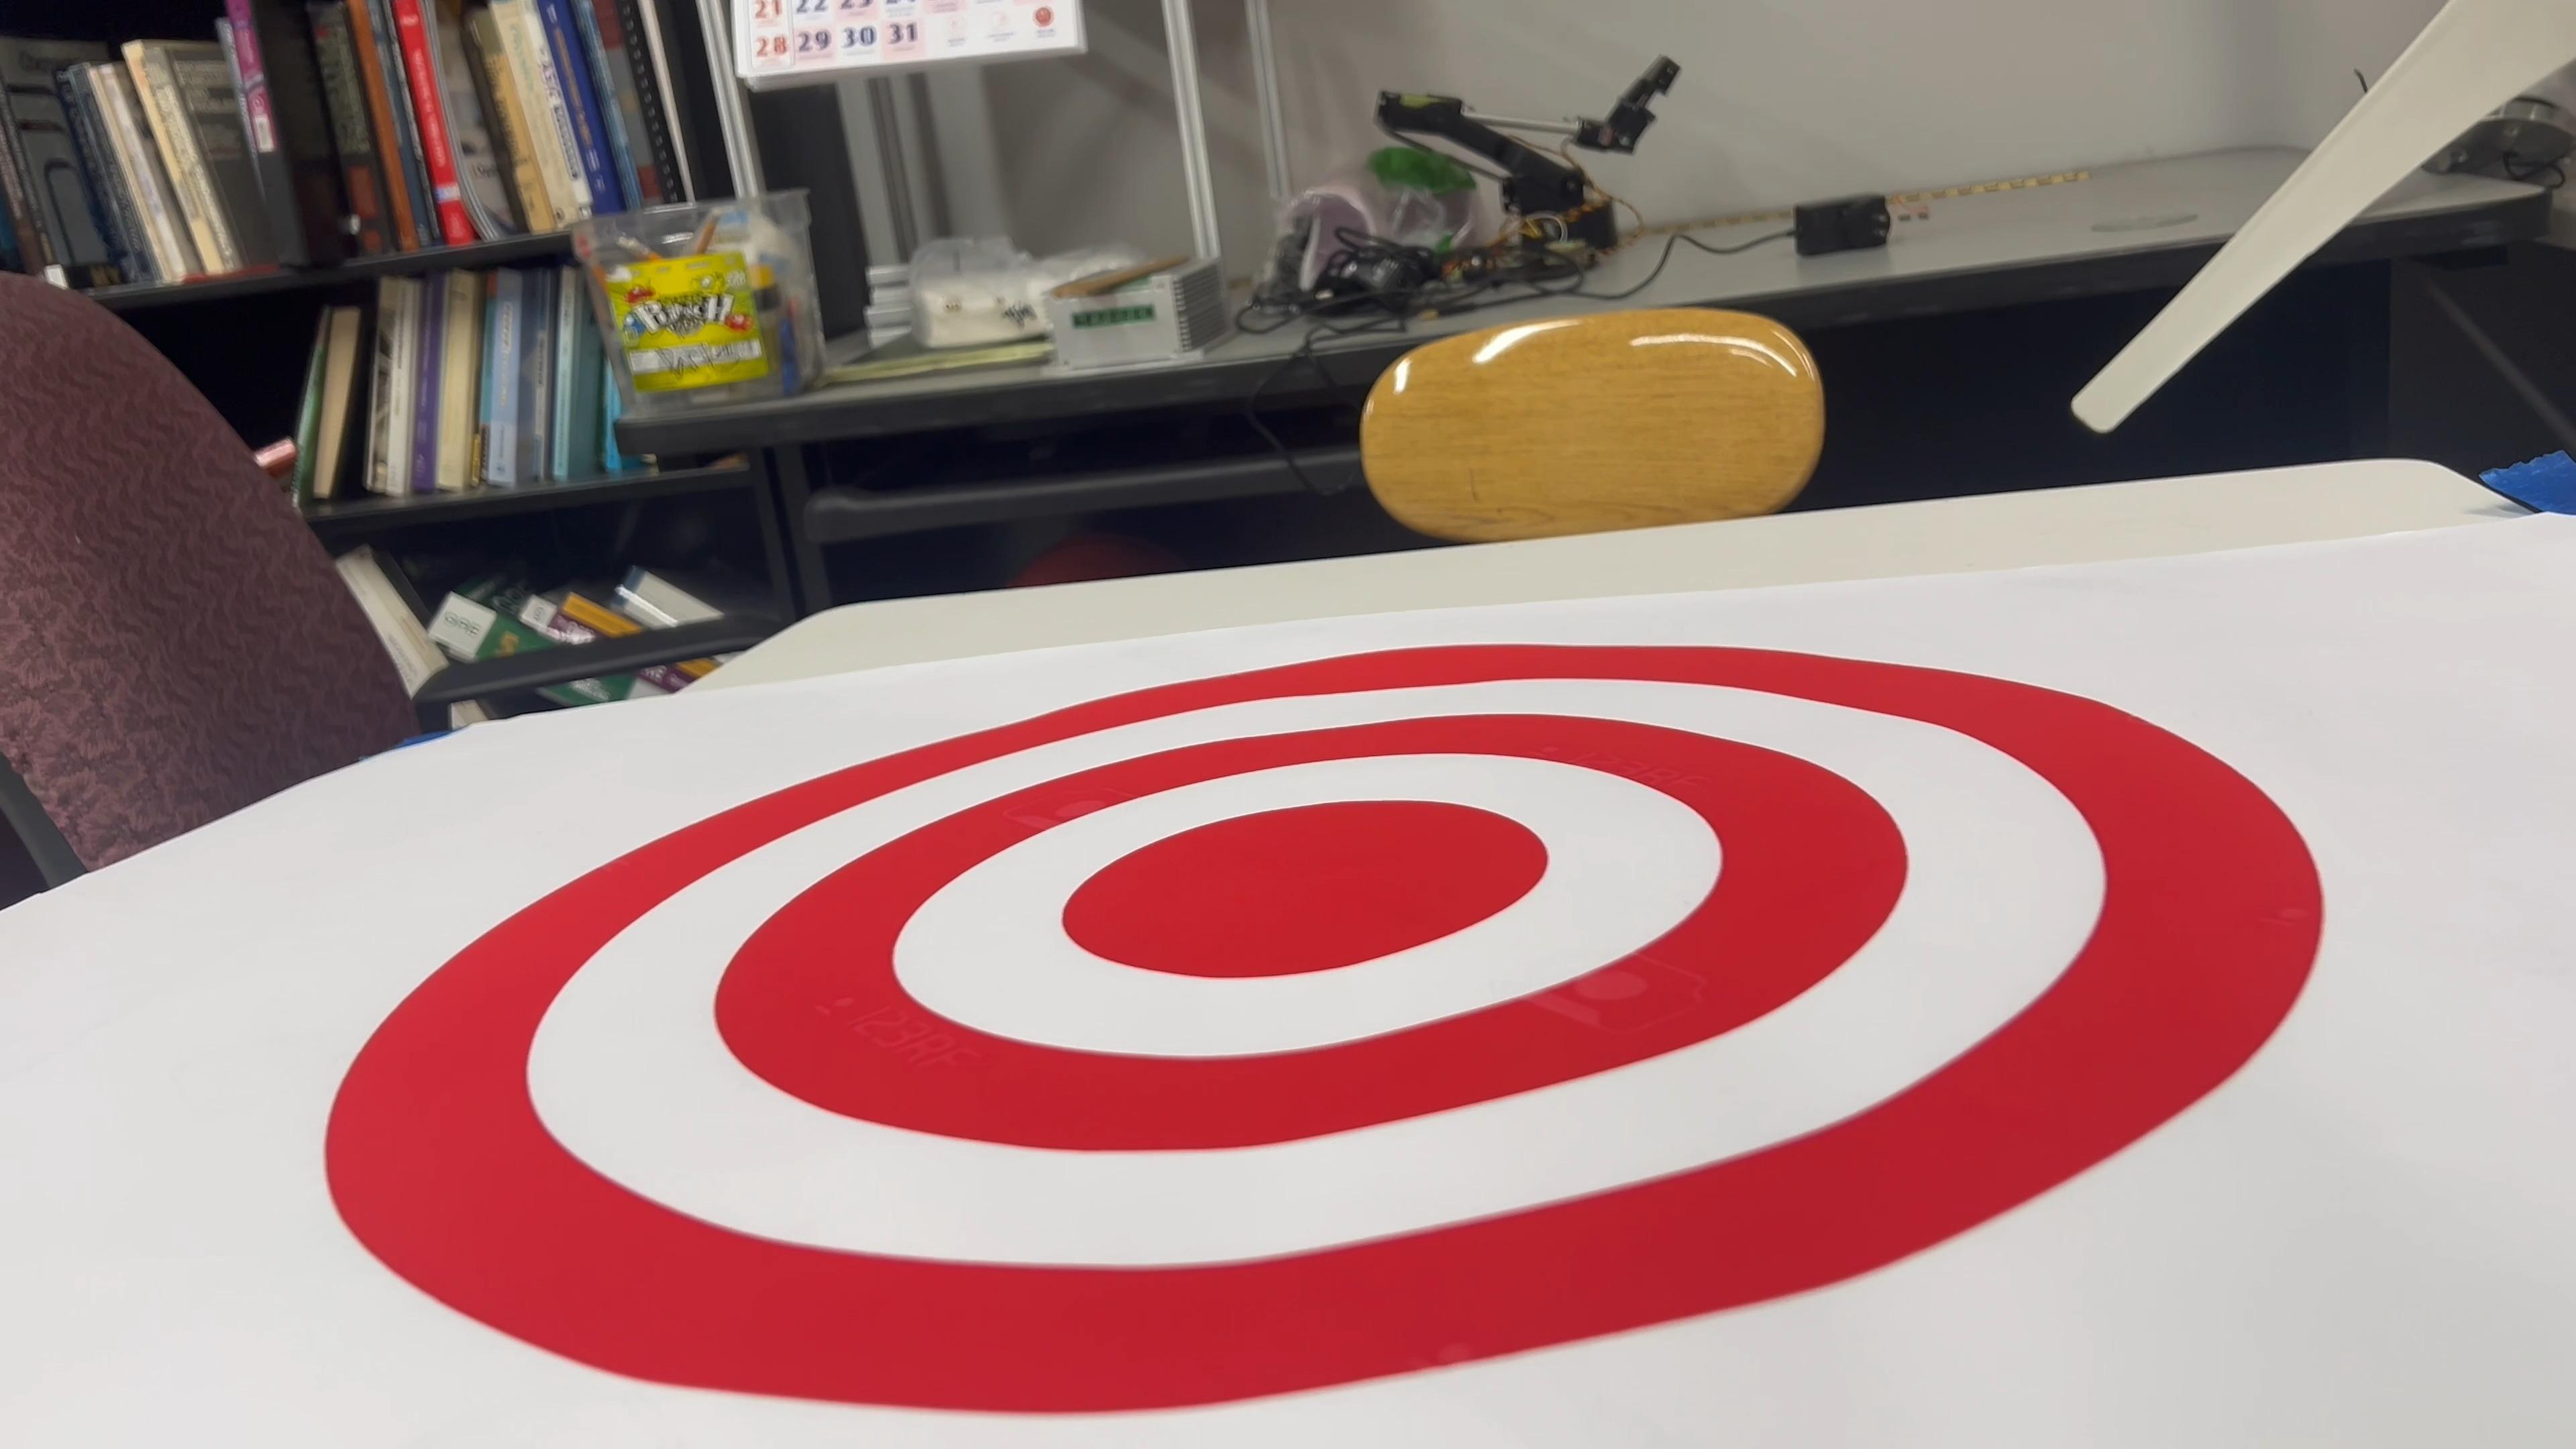target_red: (303, 598, 2346, 1419)
